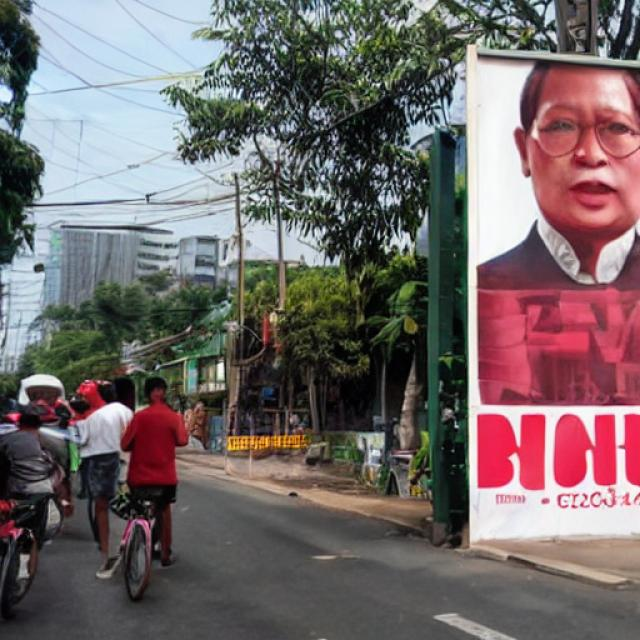Billboard: (466, 39, 640, 554)
